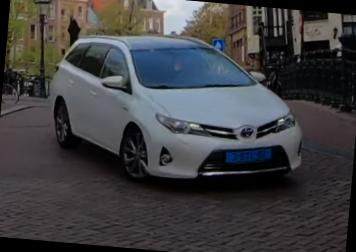license-plate: (224, 146, 275, 164)
